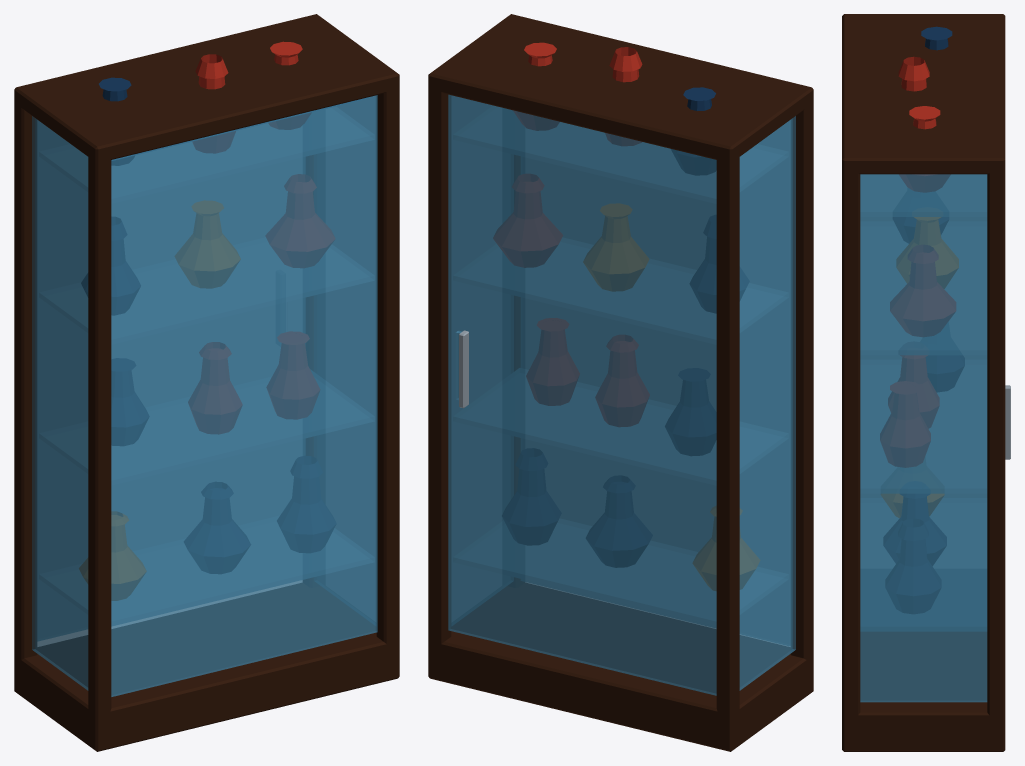
File: INTERIOR_14_DisplayCabinet.obj
The picture shows the model from 3 angles, left to right: view 1: azimuth 30°, elevation 25°; view 2: azimuth 150°, elevation 25°; view 3: azimuth 270°, elevation 25°; orthographic projection.
Parts seen in each view (by area): view 1: INTERIOR_14_DisplayCabinet_Glass_Sides, INTERIOR_14_DisplayCabinet_Frame, INTERIOR_14_DisplayCabinet_Door, INTERIOR_14_DisplayCabinet_Shelves, INTERIOR_14_DisplayCabinet_Items; view 2: INTERIOR_14_DisplayCabinet_Door, INTERIOR_14_DisplayCabinet_Frame, INTERIOR_14_DisplayCabinet_Glass_Sides, INTERIOR_14_DisplayCabinet_Shelves, INTERIOR_14_DisplayCabinet_Items, INTERIOR_14_DisplayCabinet_Door_Handle; view 3: INTERIOR_14_DisplayCabinet_Glass_Sides, INTERIOR_14_DisplayCabinet_Frame, INTERIOR_14_DisplayCabinet_Shelves, INTERIOR_14_DisplayCabinet_Items, INTERIOR_14_DisplayCabinet_Door_Handle.
Part boxes in pixels (x1=…): INTERIOR_14_DisplayCabinet_Glass_Sides: x1=32, y1=95, x2=377, y2=696; INTERIOR_14_DisplayCabinet_Frame: x1=14, y1=14, x2=399, y2=751; INTERIOR_14_DisplayCabinet_Door: x1=38, y1=121, x2=304, y2=640; INTERIOR_14_DisplayCabinet_Shelves: x1=39, y1=107, x2=374, y2=625; INTERIOR_14_DisplayCabinet_Items: x1=79, y1=41, x2=335, y2=600; INTERIOR_14_DisplayCabinet_Door: x1=448, y1=94, x2=716, y2=695; INTERIOR_14_DisplayCabinet_Frame: x1=428, y1=14, x2=813, y2=751; INTERIOR_14_DisplayCabinet_Glass_Sides: x1=452, y1=96, x2=795, y2=690; INTERIOR_14_DisplayCabinet_Shelves: x1=453, y1=106, x2=788, y2=625; INTERIOR_14_DisplayCabinet_Items: x1=493, y1=42, x2=759, y2=590; INTERIOR_14_DisplayCabinet_Door_Handle: x1=459, y1=330, x2=468, y2=408; INTERIOR_14_DisplayCabinet_Glass_Sides: x1=860, y1=174, x2=987, y2=702; INTERIOR_14_DisplayCabinet_Frame: x1=842, y1=14, x2=1005, y2=751; INTERIOR_14_DisplayCabinet_Shelves: x1=861, y1=175, x2=986, y2=630; INTERIOR_14_DisplayCabinet_Items: x1=880, y1=26, x2=964, y2=613; INTERIOR_14_DisplayCabinet_Door_Handle: x1=1005, y1=385, x2=1010, y2=459.
Bounding box in the file's own units: 0.95 × 1.88 × 0.465.
